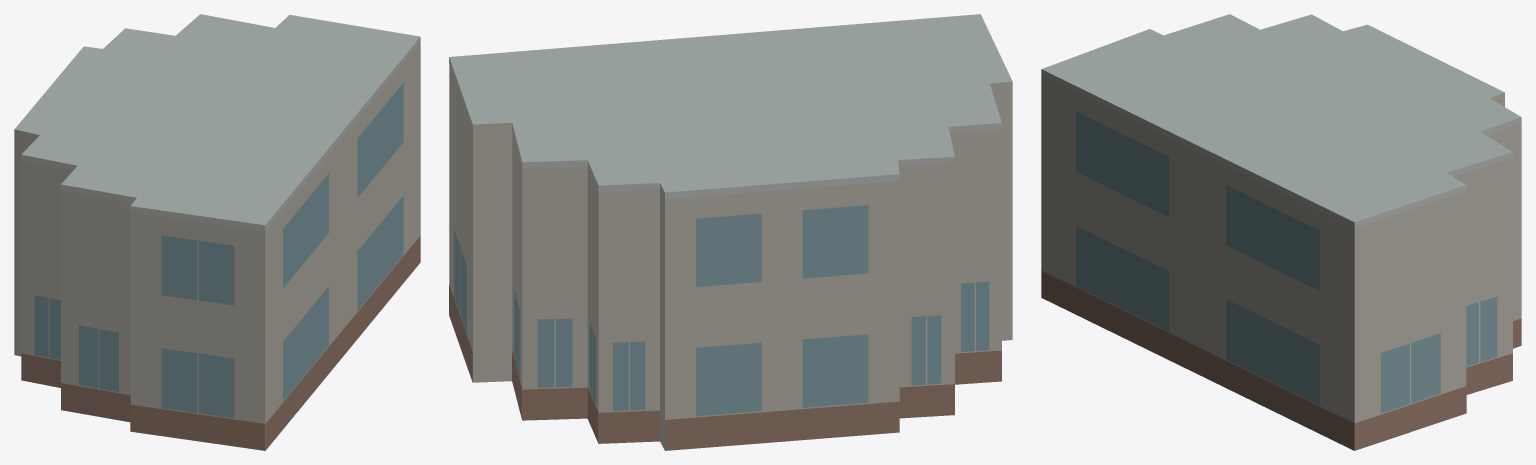
Rendered from survey-upis-32526315.glb.
The picture shows the model from 3 angles, left to right: view 1: azimuth 30°, elevation 25°; view 2: azimuth 150°, elevation 25°; view 3: azimuth 270°, elevation 25°; orthographic projection. The views are drawn at different scales.
Parts seen in each view (by area): view 1: survey-upis-32526315.tmp; view 2: survey-upis-32526315.tmp; view 3: survey-upis-32526315.tmp.
Part boxes in pixels (x1,y1,x2,y2): survey-upis-32526315.tmp: (14, 14, 420, 450); survey-upis-32526315.tmp: (449, 14, 1012, 450); survey-upis-32526315.tmp: (1041, 14, 1521, 450).
Bounding box in the file's own units: 18.18 × 9.3 × 17.71.
